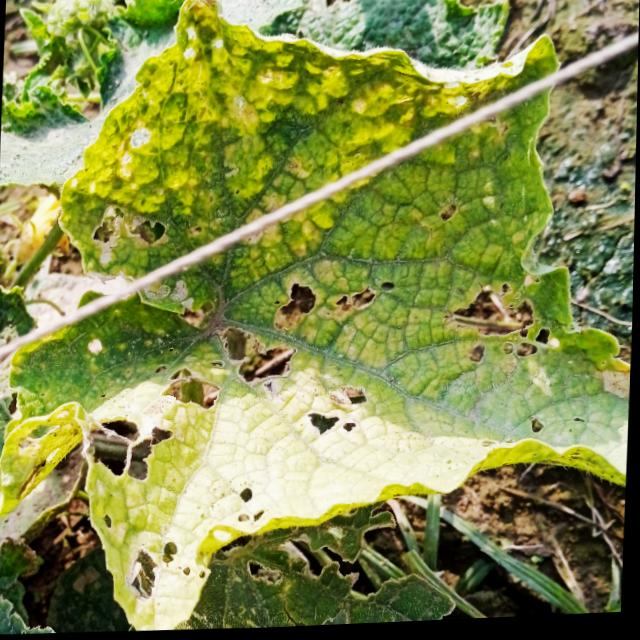Anthracnose: (0, 271, 398, 584), (442, 274, 554, 372), (88, 197, 174, 254), (303, 378, 370, 444), (429, 188, 463, 228), (520, 409, 551, 439)
